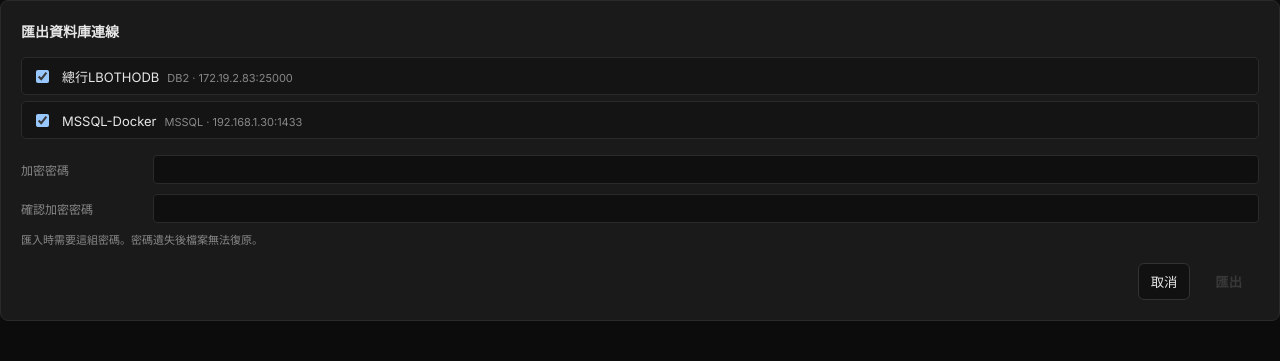
Scenario: DbExportPanel › shows a localized message when the backend fails
Step 1. Type "pw" into the password field labelled "加密密碼" → (706, 170), box x1=153 y1=155 x2=1259 y2=184
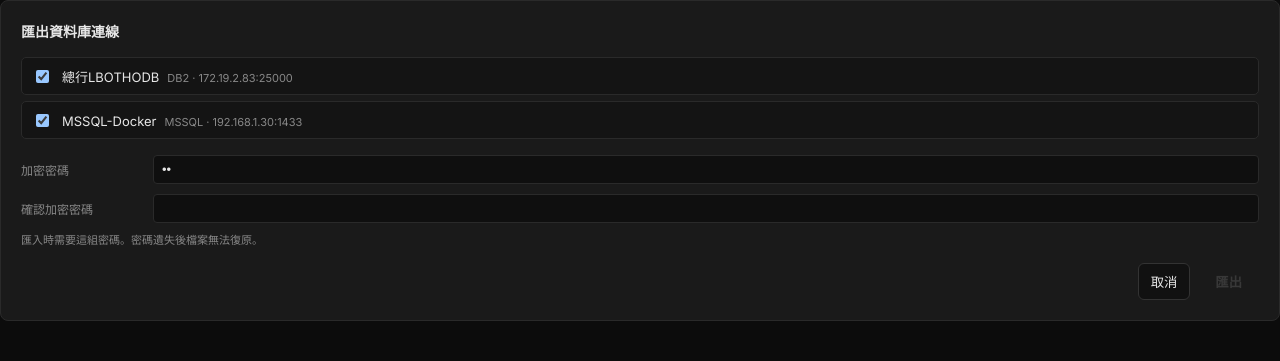
Step 2. Type "pw" into the password field labelled "確認加密密碼" → (706, 208), box x1=153 y1=194 x2=1259 y2=223
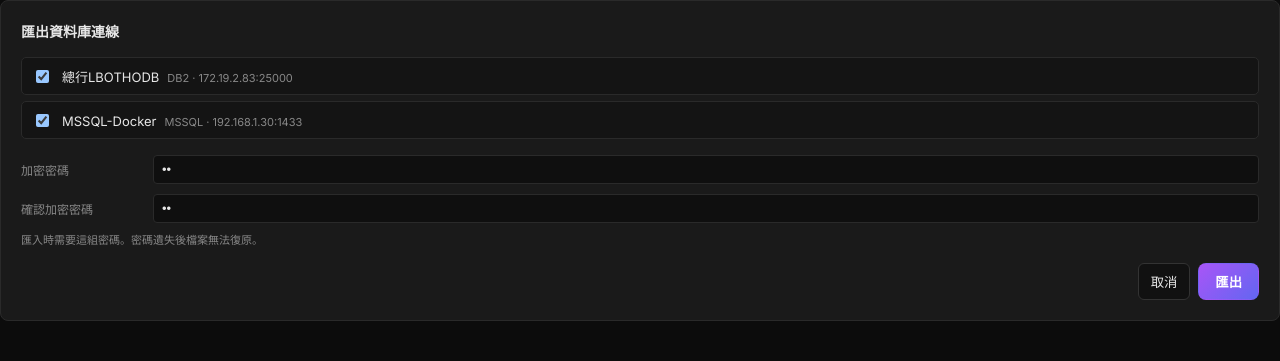
Step 3. Click the button "匯出" → (1229, 282), box x1=1198 y1=263 x2=1259 y2=300
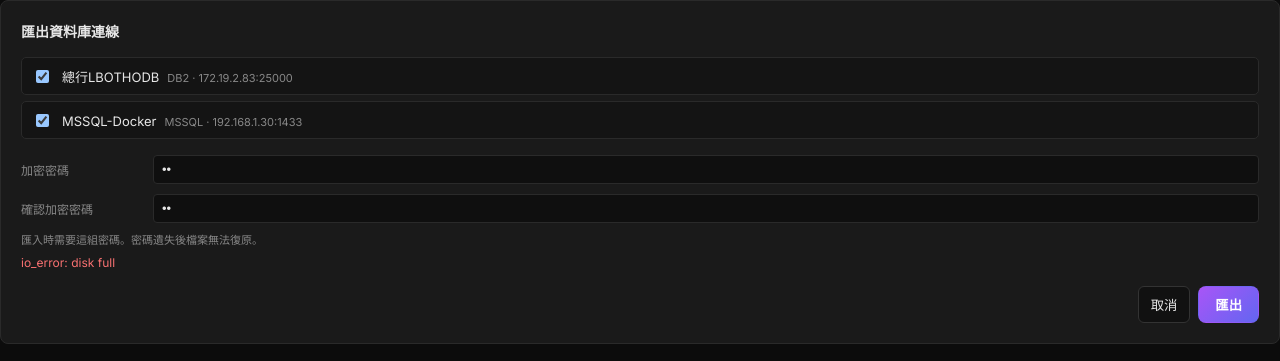
Check: the text "io_error: disk full" is shown, box x1=21 y1=255 x2=115 y2=270
